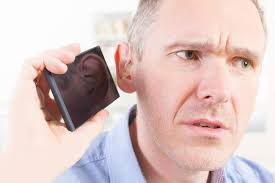phone: (45, 45, 121, 131)
talk: (1, 39, 264, 176)
